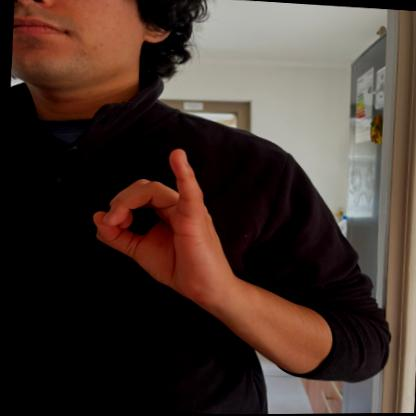D: (76, 137, 230, 292)
